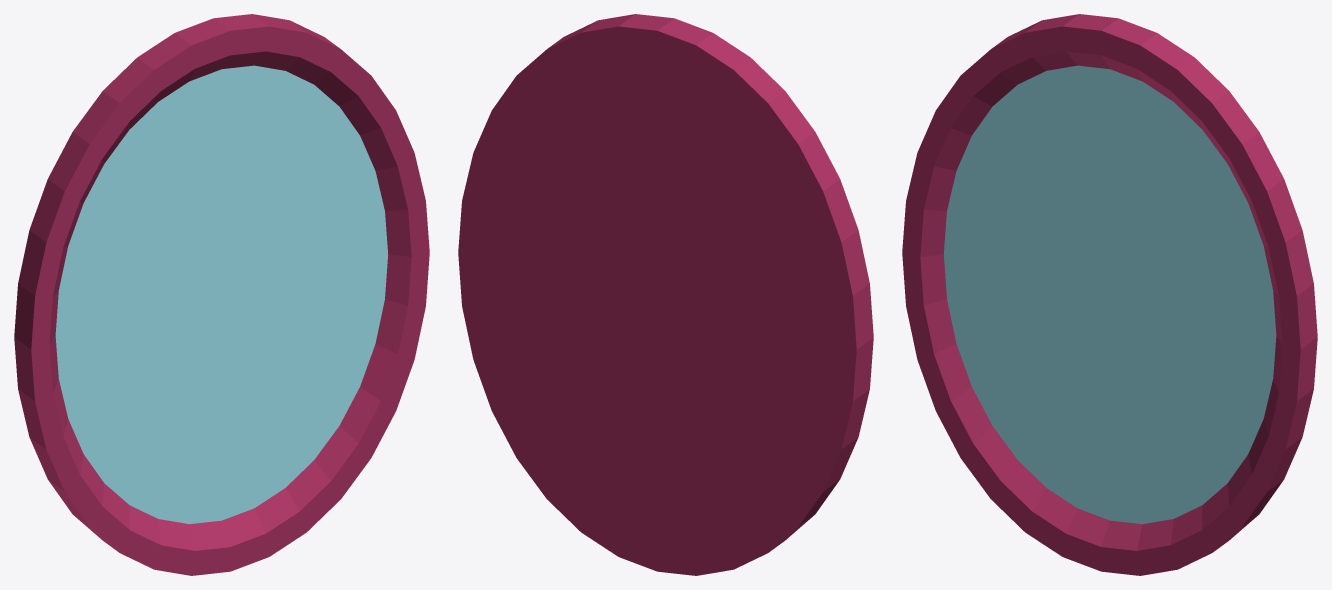
The model's file is Prop_Mirror_01.fbx.
3 views of the same model, side by side, from view 1: azimuth 30°, elevation 25°; view 2: azimuth 150°, elevation 25°; view 3: azimuth 330°, elevation 25° (orthographic).
Visible parts, largest first — view 1: Prop_Mirror_01; view 2: Prop_Mirror_01; view 3: Prop_Mirror_01.
Part boxes in pixels (x1,y1,x2,y2): Prop_Mirror_01: (14, 14, 429, 575); Prop_Mirror_01: (458, 14, 873, 575); Prop_Mirror_01: (902, 14, 1317, 575).
Bounding box in the file's own units: 56.48 × 73.26 × 4.19.
